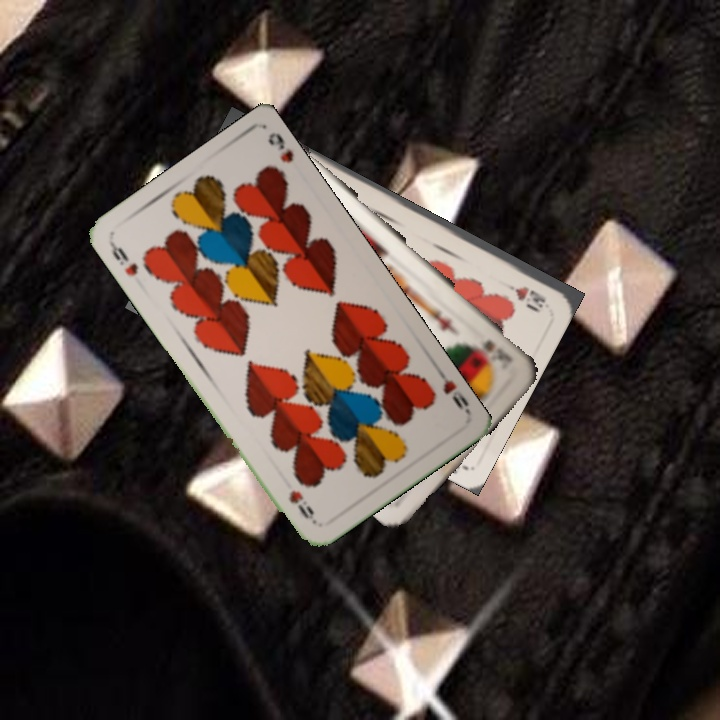H10: (494, 275, 548, 309)
H9: (433, 363, 472, 416), (106, 239, 141, 279)
SK: (477, 335, 510, 365)
